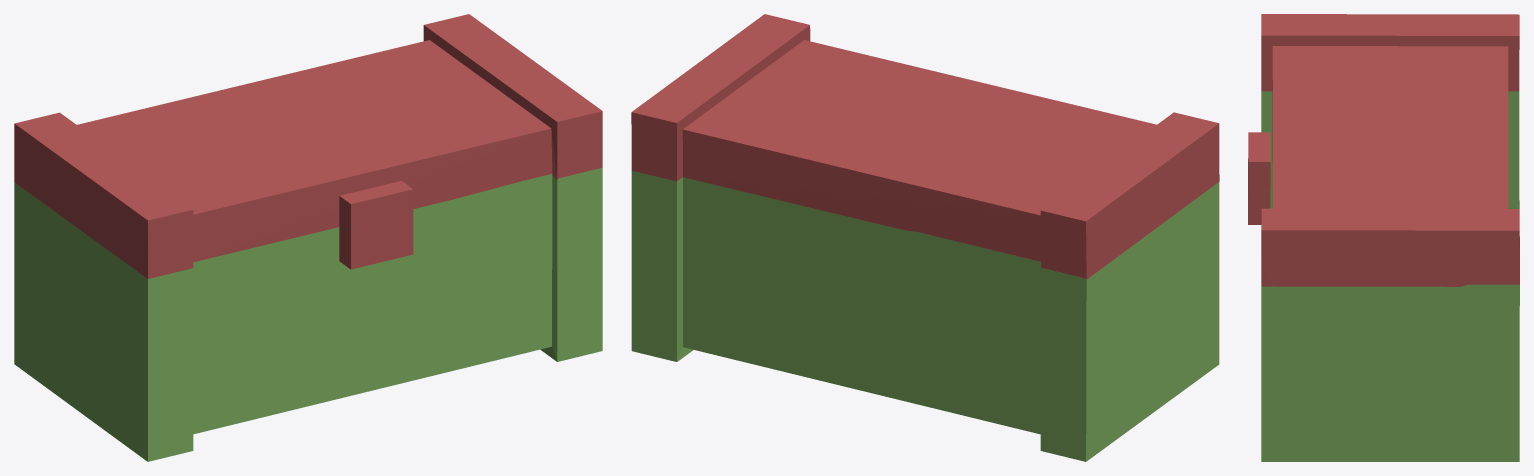
The model's file is CofreSimple.fbx.
The picture shows the model from 3 angles, left to right: view 1: azimuth 30°, elevation 25°; view 2: azimuth 150°, elevation 25°; view 3: azimuth 270°, elevation 25°; orthographic projection. The views are drawn at different scales.
Visible parts, largest first — view 1: polySurface2, polySurface1; view 2: polySurface2, polySurface1; view 3: polySurface1, polySurface2.
Boxes of the visible parts, left/top/right/bottom form: polySurface2: left=14, top=167, right=602, bottom=461; polySurface1: left=14, top=14, right=602, bottom=278; polySurface2: left=631, top=170, right=1219, bottom=461; polySurface1: left=631, top=14, right=1219, bottom=279; polySurface1: left=1248, top=14, right=1519, bottom=286; polySurface2: left=1261, top=91, right=1519, bottom=461.
Bounding box in the file's own units: 2.16 × 1.09 × 1.15.
